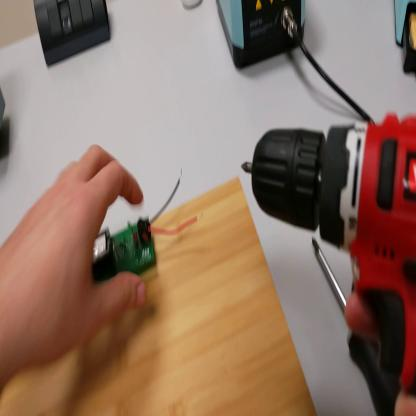electric screwdriver: (238, 111, 416, 400)
hand: (2, 144, 147, 375), (347, 291, 416, 415)
high voltage board: (93, 174, 205, 288)
screwdriver-: (313, 238, 401, 416)
welder base: (394, 3, 416, 79)
welder station: (216, 2, 309, 75)
working area: (2, 178, 318, 414)
